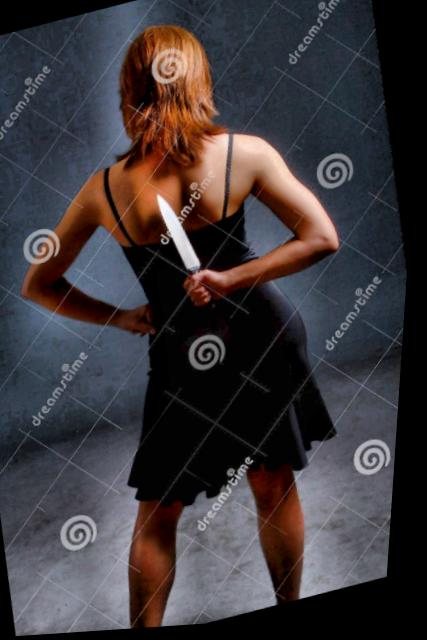knife: (144, 178, 228, 323)
